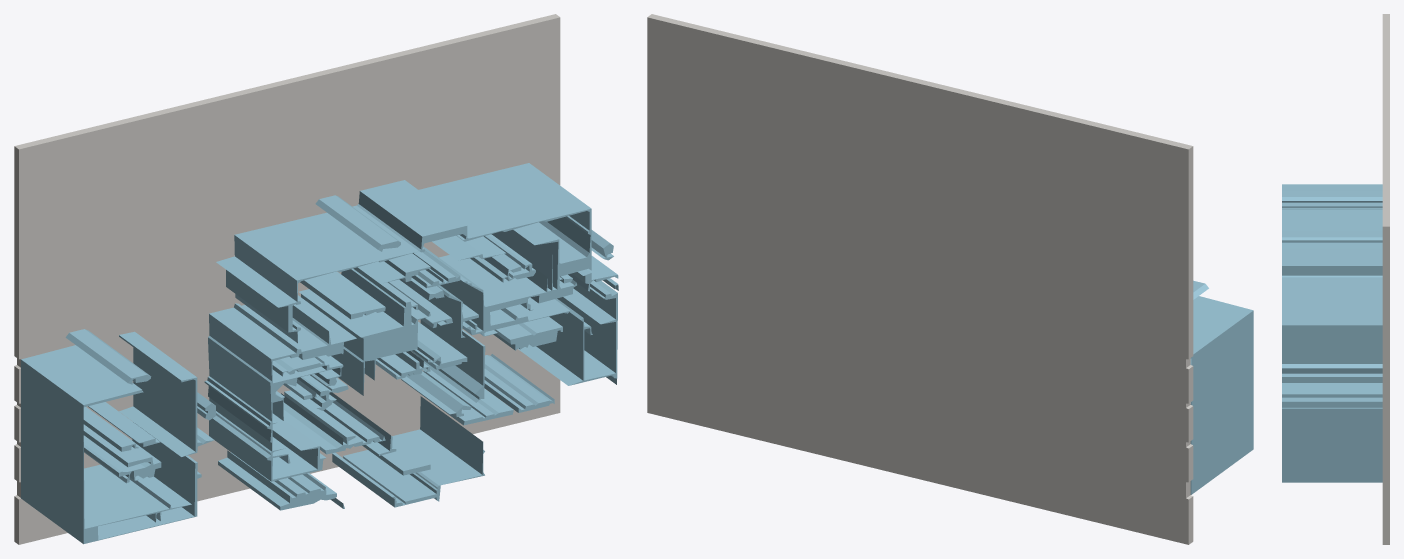
The picture shows the model from 3 angles, left to right: view 1: azimuth 30°, elevation 25°; view 2: azimuth 150°, elevation 25°; view 3: azimuth 270°, elevation 25°; orthographic projection. The views are drawn at different scales.
Parts seen in each view (by area): view 1: world; view 2: world; view 3: world.
Part boxes in pixels (box(x1,y1,x2,y2)): world: box(14, 14, 618, 544); world: box(647, 14, 1253, 544); world: box(1282, 14, 1389, 544).
Bounding box in the file's own units: 10.23 × 7.14 × 2.2.
